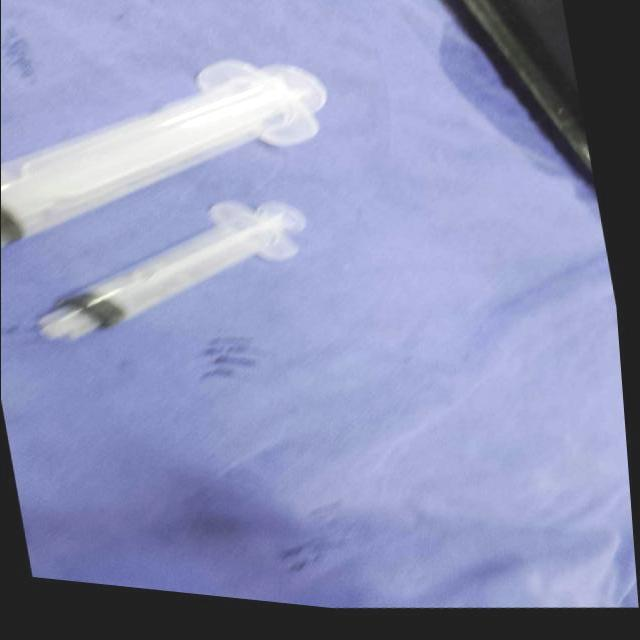Pathological: (2, 3, 637, 613)
Sharps: (1, 59, 328, 251), (36, 200, 307, 343)
